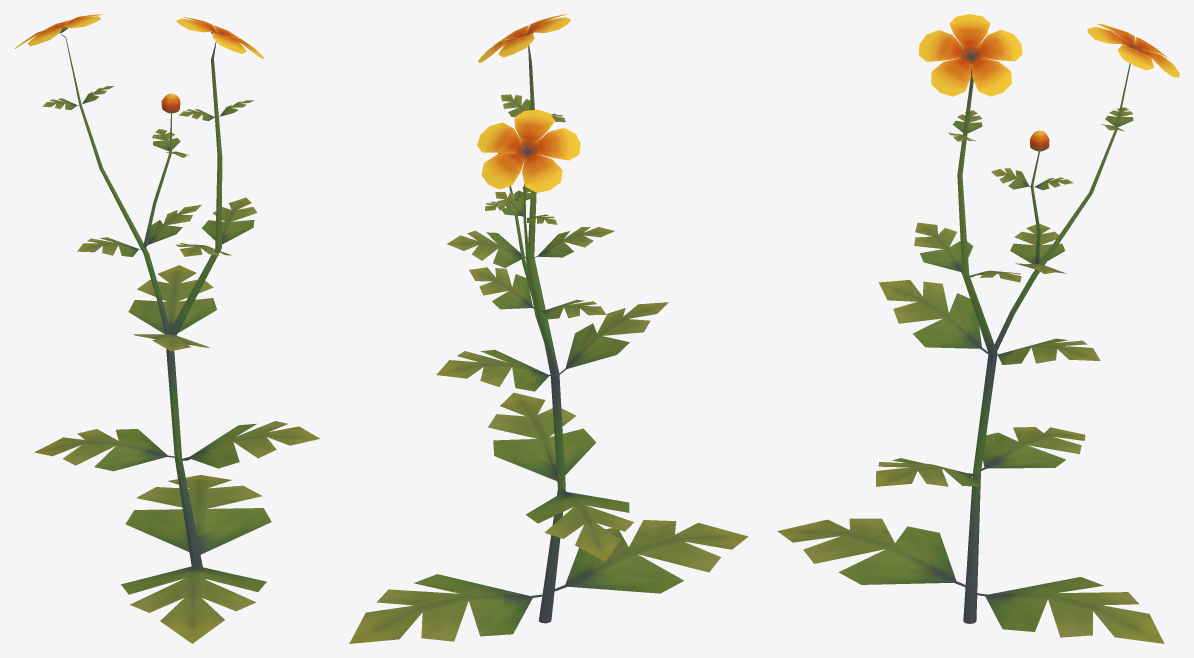
File: low_poly_flower-transformed.glb
3 renders of one model, left to right at view 1: azimuth 30°, elevation 25°; view 2: azimuth 150°, elevation 25°; view 3: azimuth 270°, elevation 25°, orthographic. The views are drawn at different scales.
Visible parts, largest first — view 1: stem_0; view 2: stem_0; view 3: stem_0.
Part boxes in pixels (bbox=[...]): stem_0: bbox=[14, 14, 320, 643]; stem_0: bbox=[349, 14, 748, 643]; stem_0: bbox=[777, 14, 1179, 643].
Bounding box in the file's own units: 3.24 × 8.08 × 4.94.
Materials: 1 (1 with a texture image).
